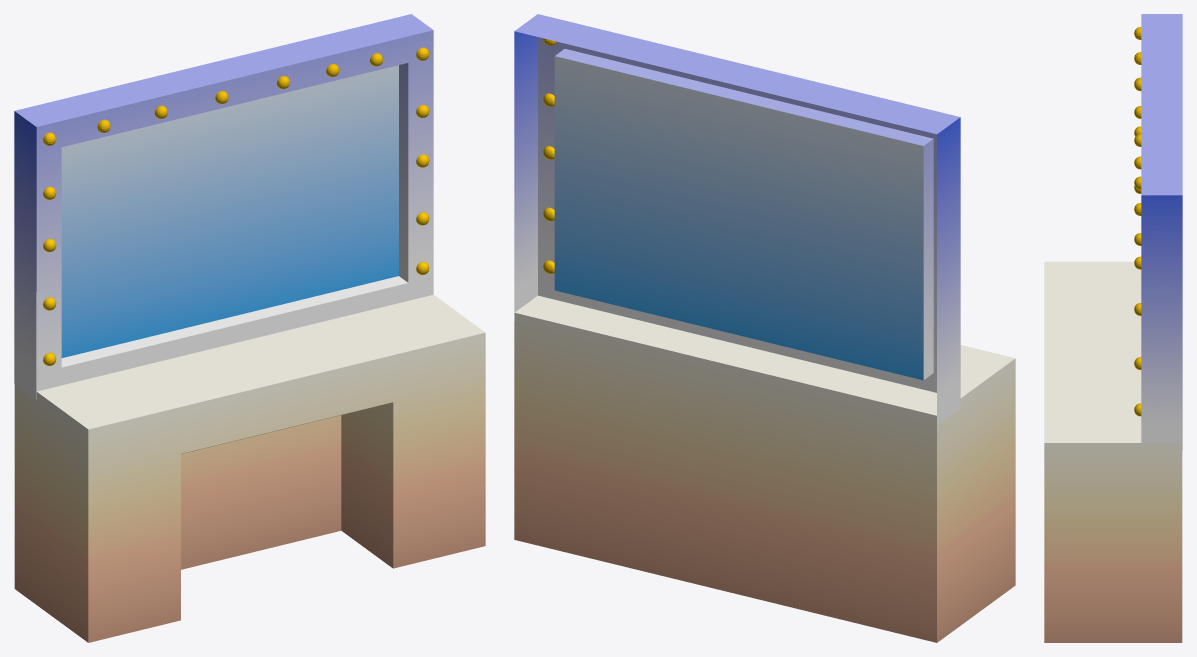
The model's file is Beauty_Mirror.fbx.
3 renders of one model, left to right at view 1: azimuth 30°, elevation 25°; view 2: azimuth 150°, elevation 25°; view 3: azimuth 270°, elevation 25°, orthographic. The views are drawn at different scales.
Parts seen in each view (by area): view 1: Beauty_Mirror; view 2: Beauty_Mirror; view 3: Beauty_Mirror.
Boxes of the visible parts, x1,y1,x2,y2 form: Beauty_Mirror: [14, 14, 485, 642]; Beauty_Mirror: [514, 14, 1015, 642]; Beauty_Mirror: [1044, 14, 1182, 642].
Bounding box in the file's own units: 9.08 × 10.44 × 2.93.
Materials: 1 (1 with a texture image).
